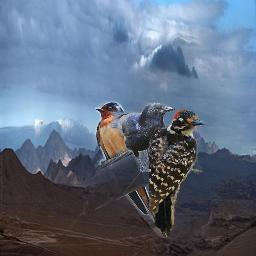Crow: (110, 102, 175, 172)
Swallow: (95, 101, 167, 238)
Woodpecker: (149, 108, 205, 238)
